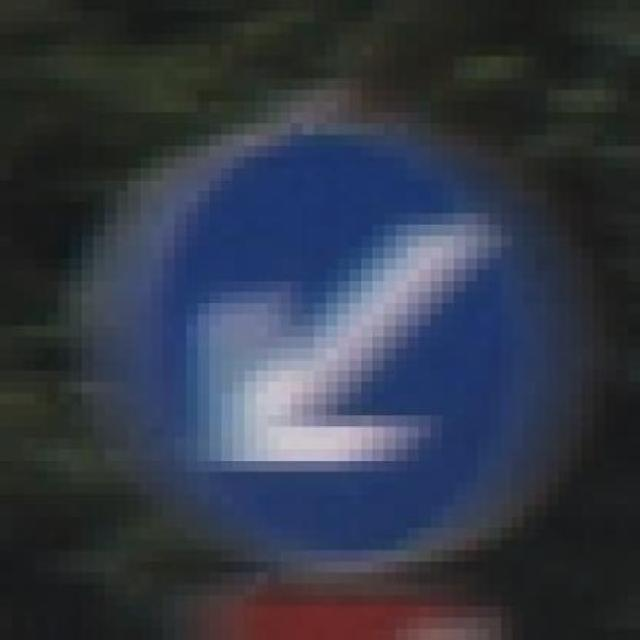Keep-Left: (140, 90, 535, 573)
